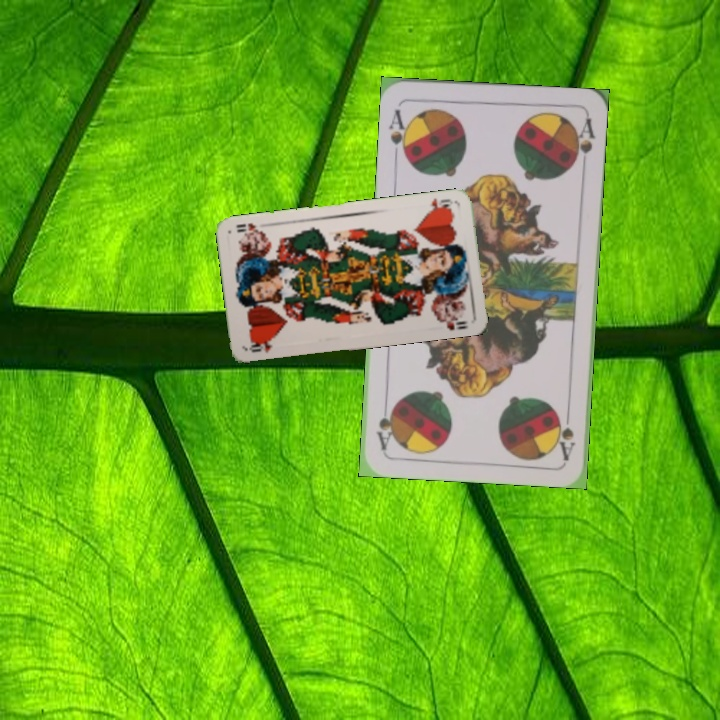HO: (421, 194, 457, 215), (244, 336, 275, 355)
SA: (385, 105, 413, 162), (553, 402, 579, 462)
